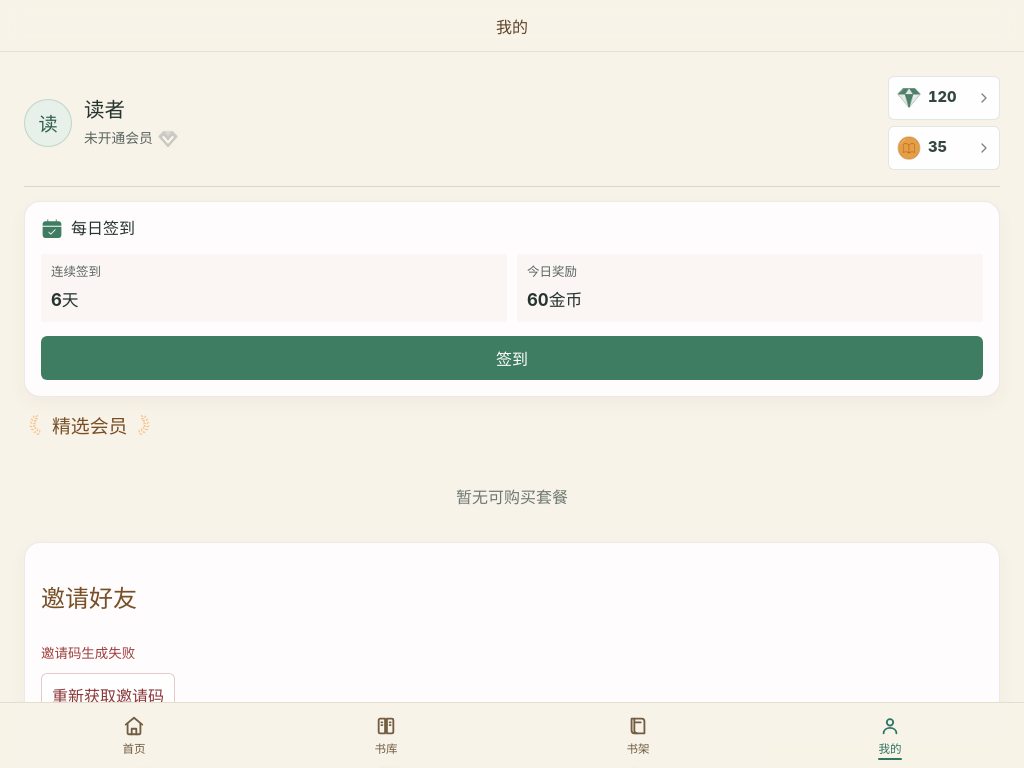
MePage › retries only the invitation resource
What coordinates should you click on to do the following:
click the button "重新获取邀请码"
I would click on:
 (108, 695)
Its box is x1=41 y1=673 x2=175 y2=717.
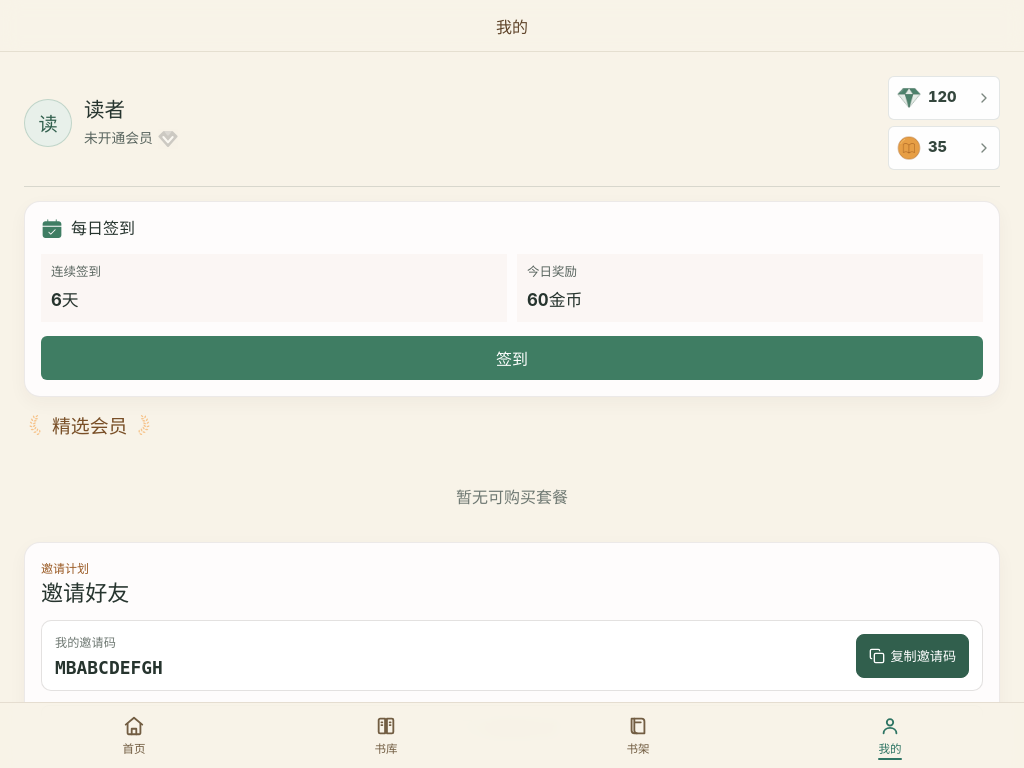
Now the text "MBABCDEFGH" is shown, box x1=55 y1=658 x2=163 y2=678
